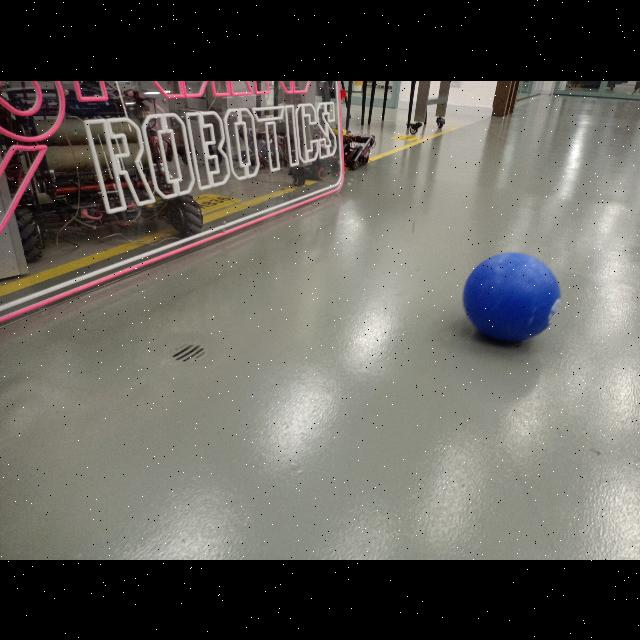B: (462, 252, 562, 342)
